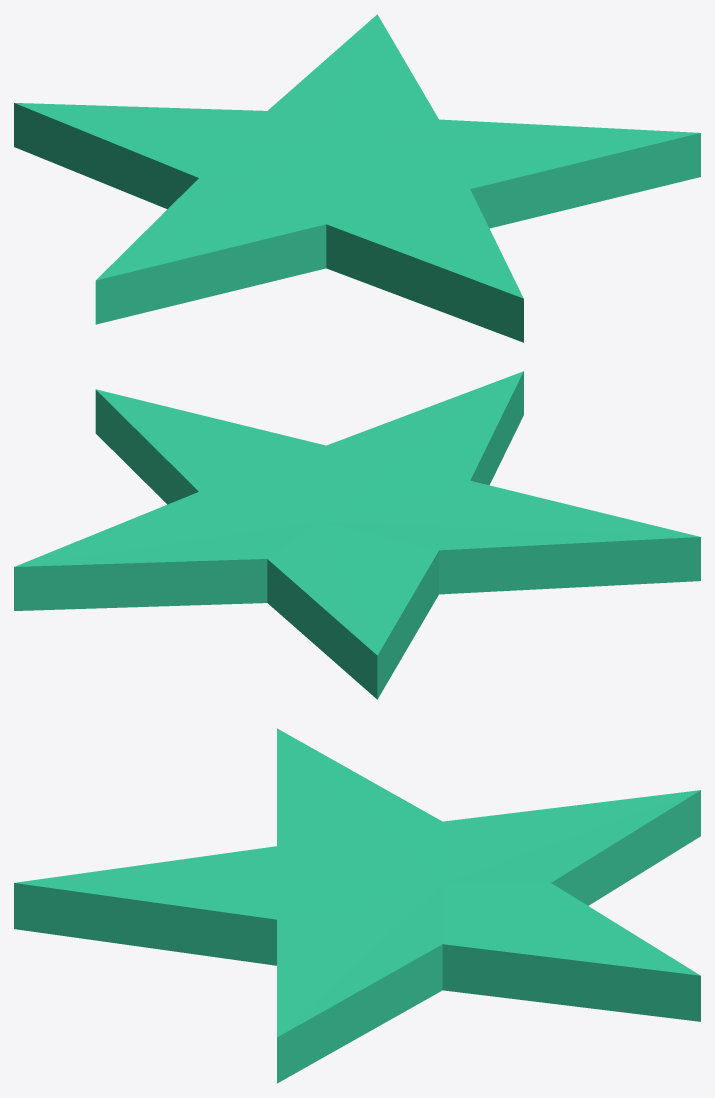
The model's file is Event-Star-Flat.fbx.
3 renders of one model, top to bottom at view 1: azimuth 30°, elevation 25°; view 2: azimuth 150°, elevation 25°; view 3: azimuth 270°, elevation 25°, orthographic. The views are drawn at different scales.
Parts seen in each view (by area): view 1: Event-Star-Flat; view 2: Event-Star-Flat; view 3: Event-Star-Flat.
Part boxes in pixels (x1,y1,x2,y2): Event-Star-Flat: [14, 14, 700, 342]; Event-Star-Flat: [14, 371, 700, 699]; Event-Star-Flat: [14, 728, 700, 1083].
Size of the model in its own units: 473 by 33.15 by 444.
1 material, 1 textured.
